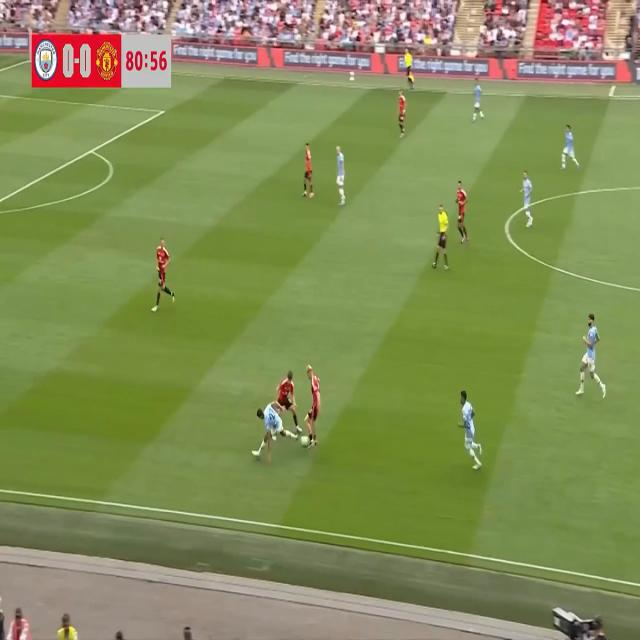ball: (300, 426, 311, 456)
players: (149, 231, 183, 328), (576, 309, 609, 406), (252, 395, 299, 462), (456, 368, 482, 478), (271, 368, 303, 438), (516, 168, 541, 240), (559, 116, 584, 182), (306, 361, 322, 455), (454, 170, 471, 254), (394, 84, 414, 142), (302, 136, 315, 209), (333, 147, 349, 206), (471, 75, 487, 123)
refree: (432, 197, 452, 283), (402, 46, 420, 92)
